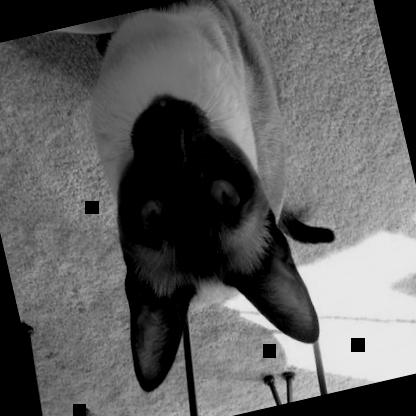cat: (55, 0, 363, 396)
